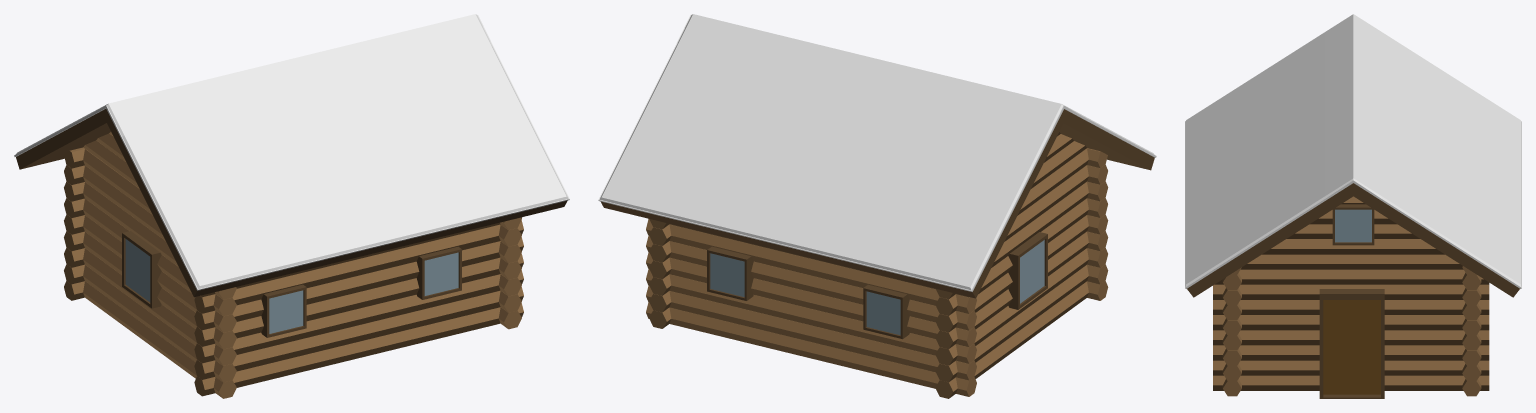
File: Log Cabin.fbx
3 renders of one model, left to right at view 1: azimuth 30°, elevation 25°; view 2: azimuth 150°, elevation 25°; view 3: azimuth 270°, elevation 25°, orthographic. The views are drawn at different scales.
Parts seen in each view (by area): view 1: pCylinder45; view 2: pCylinder45; view 3: pCylinder45.
Part boxes in pixels (left/top/right/bottom): pCylinder45: left=14, top=14, right=569, bottom=398; pCylinder45: left=598, top=14, right=1156, bottom=398; pCylinder45: left=1185, top=14, right=1521, bottom=398.
Size of the model in its own units: 449 by 290 by 384.
